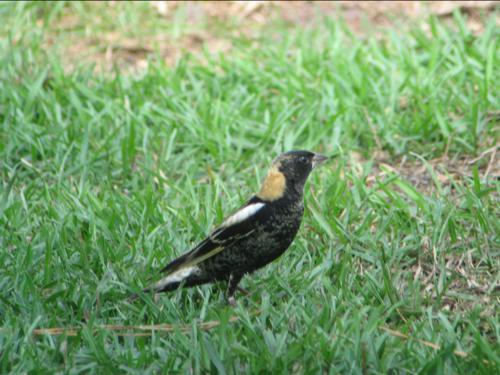bird: (95, 135, 331, 315)
